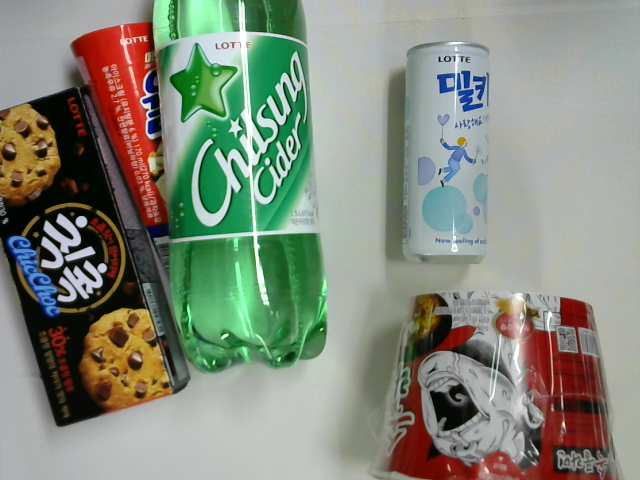Chicchok_Original_2400: (1, 80, 193, 430)
Chilseong_Cider_1.5L: (151, 1, 336, 378)
Hejangpul: (373, 292, 631, 480)
Milkies_250ml: (396, 35, 496, 281)
World_Cone_Banila: (70, 17, 196, 332)
